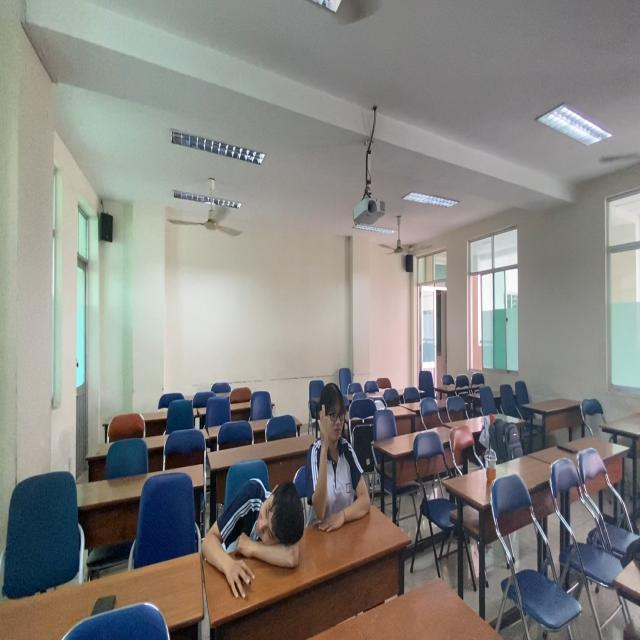raise_hand: (309, 374, 372, 534)
sleep: (198, 473, 307, 602)
